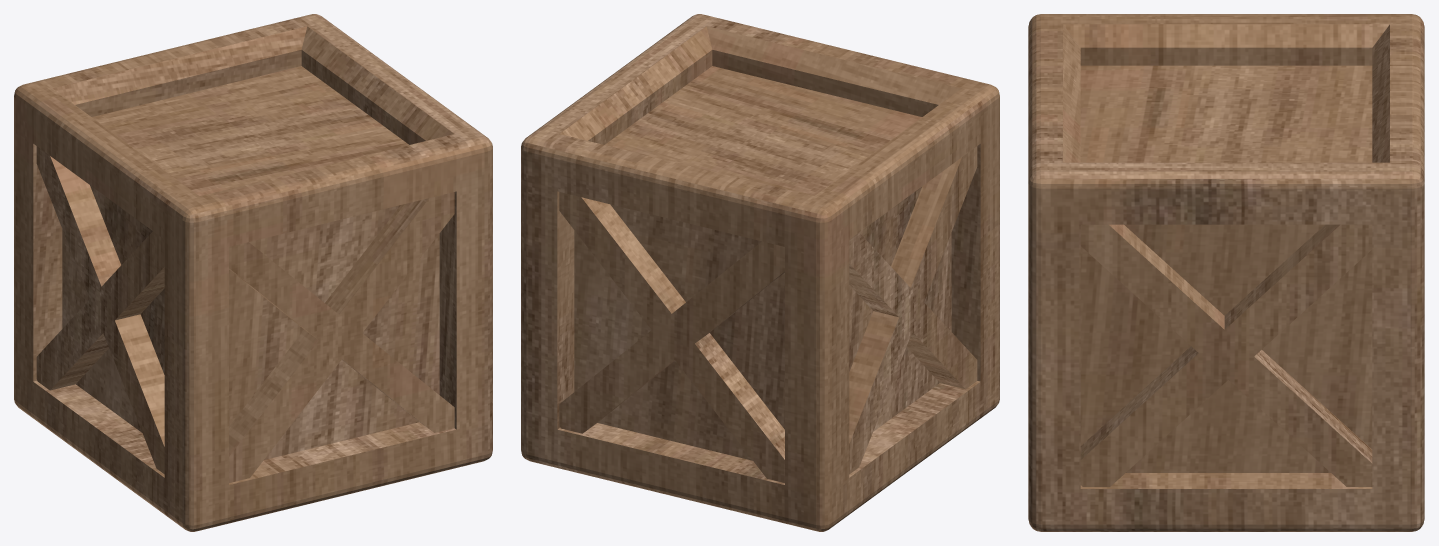
The model's file is crate.fbx.
3 views of the same model, side by side, from view 1: azimuth 30°, elevation 25°; view 2: azimuth 150°, elevation 25°; view 3: azimuth 270°, elevation 25° (orthographic). The views are drawn at different scales.
Visible parts, largest first — view 1: body; view 2: body; view 3: body.
Boxes of the visible parts, x1,y1,x2,y2 form: body: (14,14,492,531); body: (521,14,999,531); body: (1028,14,1424,531).
Bounding box in the file's own units: 200 × 200 × 200.
1 material, 1 textured.
